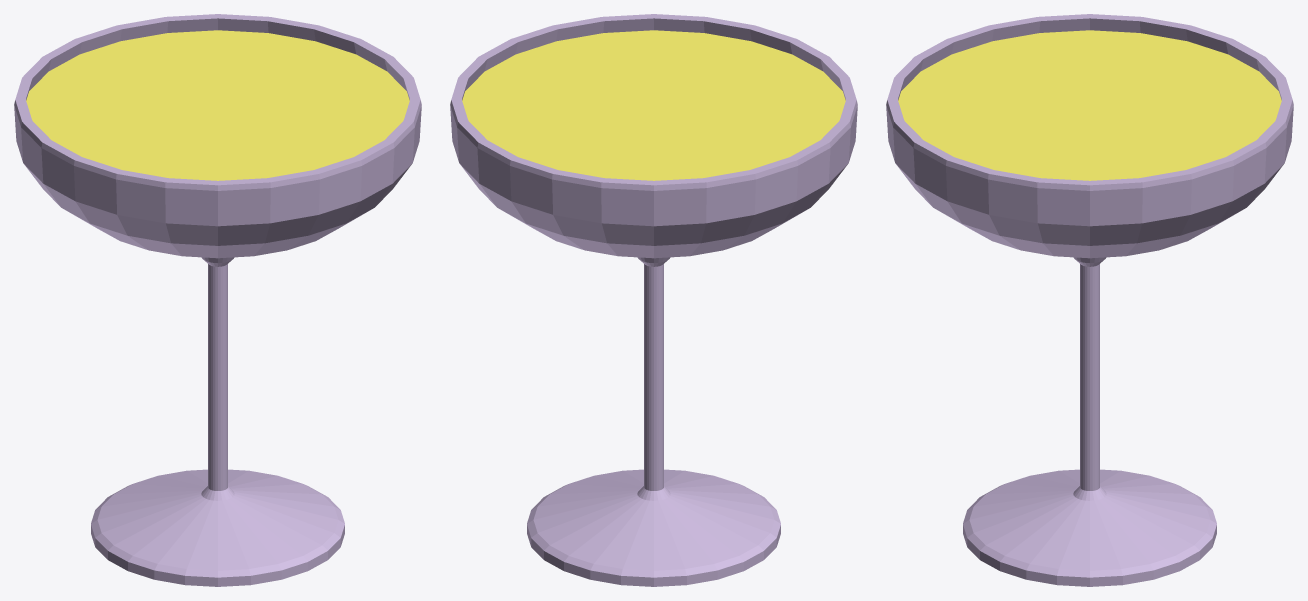
Rendered from Cocktail_02.fbx.
3 renders of one model, left to right at view 1: azimuth 30°, elevation 25°; view 2: azimuth 150°, elevation 25°; view 3: azimuth 270°, elevation 25°, orthographic.
Parts seen in each view (by area): view 1: Cocktail_02; view 2: Cocktail_02; view 3: Cocktail_02.
Boxes of the visible parts, x1=… form: Cocktail_02: x1=14, y1=14, x2=421, y2=586; Cocktail_02: x1=450, y1=14, x2=857, y2=586; Cocktail_02: x1=886, y1=14, x2=1293, y2=586.
Bounding box in the file's own units: 14.23 × 16.69 × 14.23.
